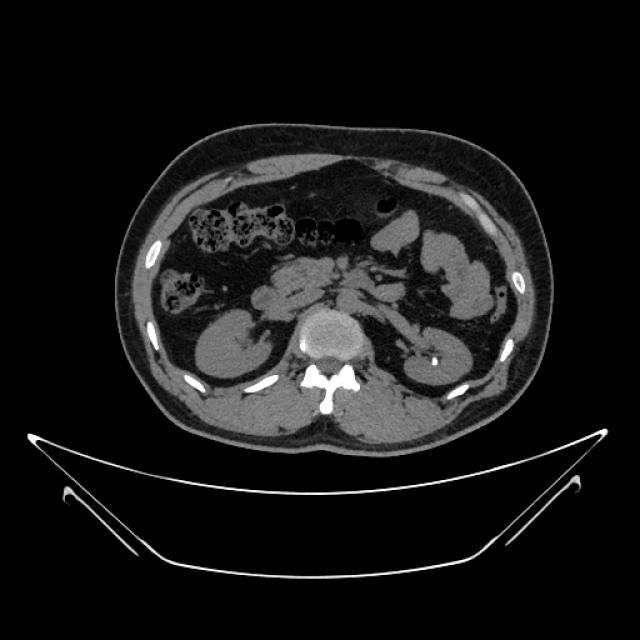kidneystone: (431, 358, 438, 366)
